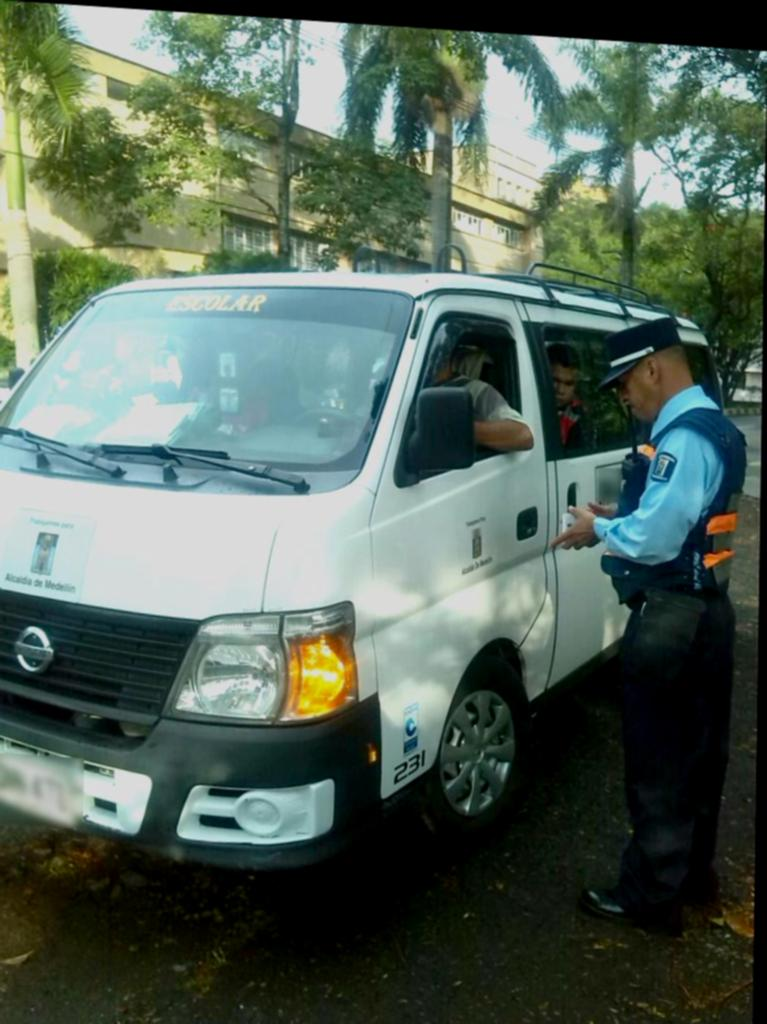License_Plate: (0, 744, 81, 832)
